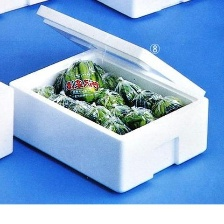foam_box: (5, 0, 213, 195), (88, 0, 195, 23), (0, 75, 18, 163)
